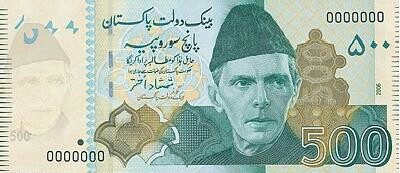500 rupee: (4, 3, 397, 169)
